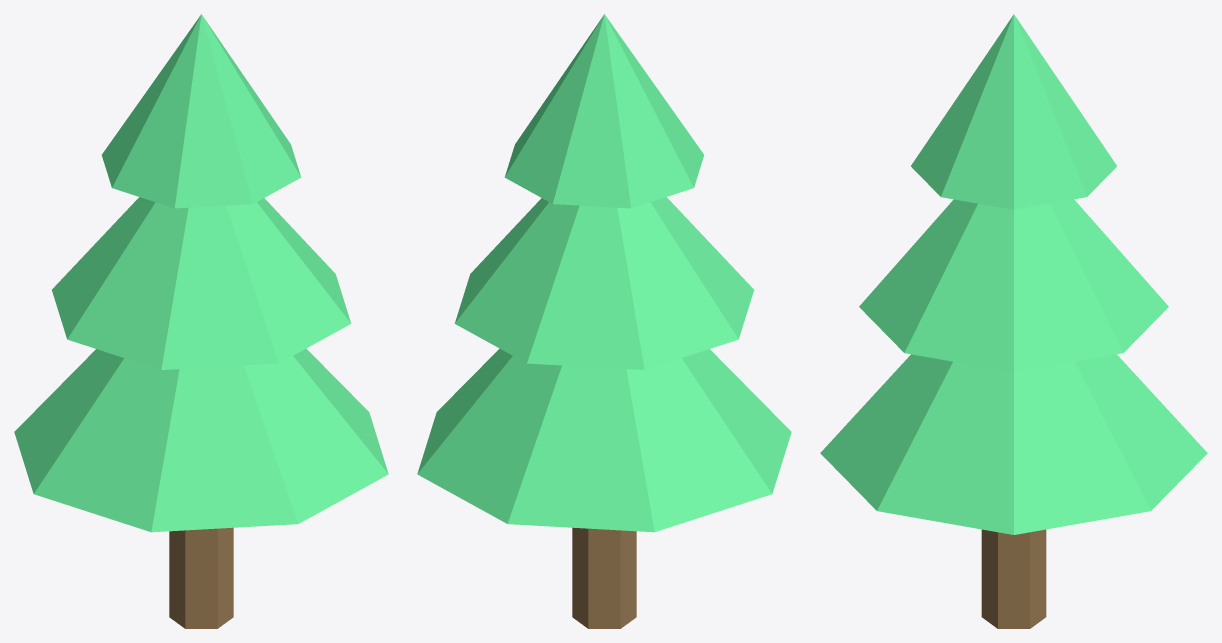
Rendered from tree_pine.glb.
The picture shows the model from 3 angles, left to right: view 1: azimuth 30°, elevation 25°; view 2: azimuth 150°, elevation 25°; view 3: azimuth 270°, elevation 25°; orthographic projection.
Visible parts, largest first — view 1: tree_pine; view 2: tree_pine; view 3: tree_pine.
Part boxes in pixels (x1,y1,x2,y2): tree_pine: (14,14,388,628); tree_pine: (417,14,791,628); tree_pine: (820,14,1207,628).
Size of the model in its own units: 0.6 by 1.03 by 0.6.
